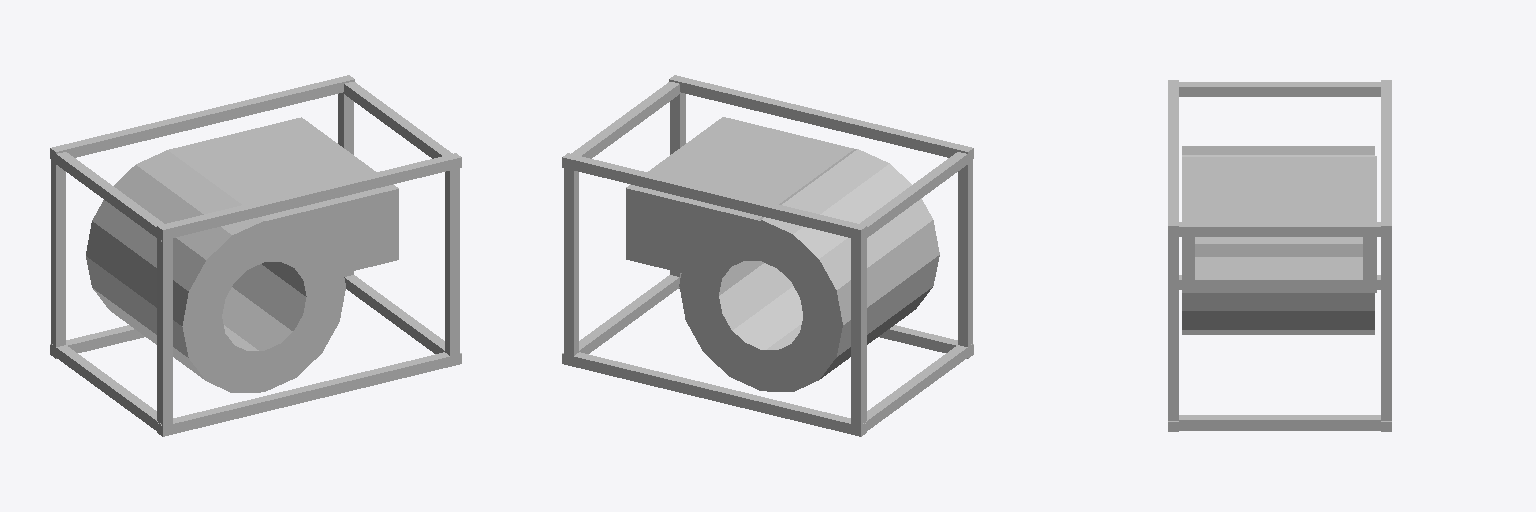
3 renders of one model, left to right at view 1: azimuth 30°, elevation 25°; view 2: azimuth 150°, elevation 25°; view 3: azimuth 270°, elevation 25°, orthographic.
Visible parts, largest first — view 1: Donut014, Rectangle025, Box053, Box052, Box055, Box057, Box059, Box056, Box063, Box062, Box060, Box061 (+2 smaller); view 2: Donut014, Rectangle025, Box052, Box053, Box054, Box056, Box058, Box057, Box063, Box062, Box060, Box061 (+2 smaller); view 3: Rectangle025, Donut014, Box061, Box060, Box063, Box059, Box058, Box053, Box052.
Part boxes in pixels (x1,y1,x2,y2): Donut014: (86, 150, 345, 392); Rectangle025: (169, 117, 398, 274); Box053: (157, 153, 461, 240); Box052: (50, 75, 354, 161); Box055: (157, 352, 461, 436); Box057: (157, 230, 172, 435); Box059: (445, 159, 459, 366); Box056: (51, 161, 65, 346); Box063: (51, 152, 163, 241); Box062: (51, 344, 161, 430); Box060: (344, 82, 452, 158); Box061: (344, 275, 444, 353); Donut014: (679, 149, 939, 391); Rectangle025: (626, 117, 853, 274); Box052: (562, 153, 866, 240); Box053: (669, 75, 973, 161); Box054: (562, 352, 866, 436); Box056: (851, 229, 866, 435); Box058: (564, 159, 578, 365); Box057: (958, 159, 972, 346); Box063: (860, 152, 971, 241); Box062: (862, 344, 971, 430); Box060: (571, 82, 679, 158); Box061: (579, 275, 679, 353); Rectangle025: (1182, 156, 1376, 292); Donut014: (1182, 146, 1374, 334); Box061: (1170, 415, 1390, 430); Box060: (1170, 222, 1390, 236); Box063: (1179, 82, 1380, 96); Box059: (1168, 236, 1178, 420); Box058: (1381, 236, 1391, 420); Box053: (1168, 80, 1178, 235); Box052: (1381, 80, 1391, 235).
Bounding box in the file's own units: 127 × 83.84 × 82.61.